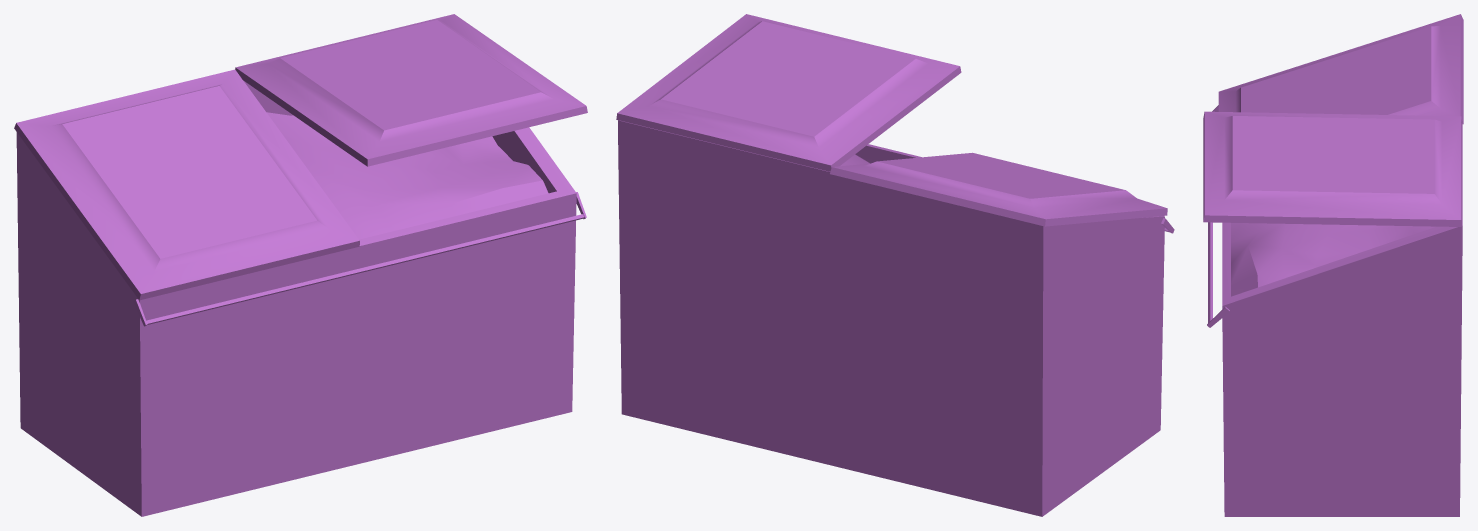
Rendered from Dumpster_Open.fbx.
3 views of the same model, side by side, from view 1: azimuth 30°, elevation 25°; view 2: azimuth 150°, elevation 25°; view 3: azimuth 270°, elevation 25° (orthographic). The views are drawn at different scales.
Parts seen in each view (by area): view 1: Dumpster_Open; view 2: Dumpster_Open; view 3: Dumpster_Open.
Part boxes in pixels (x1,y1,x2,y2): Dumpster_Open: (14,14,587,516); Dumpster_Open: (616,14,1174,516); Dumpster_Open: (1203,14,1463,516).
Size of the model in its own units: 233 by 163 by 122.
